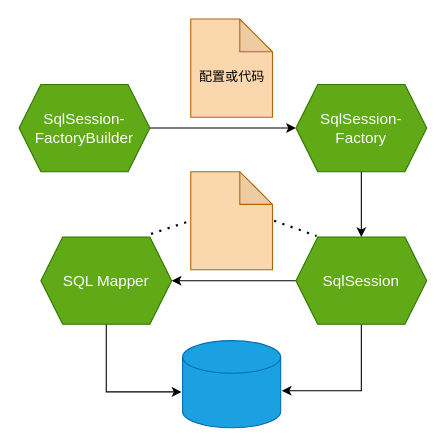
Image size: 446x447. Some labels were removed from this diagram. The centre of each missing label's shape, as x and y in pixels:
可发送SQL: the point at 231,220
数据库: the point at 231,384
